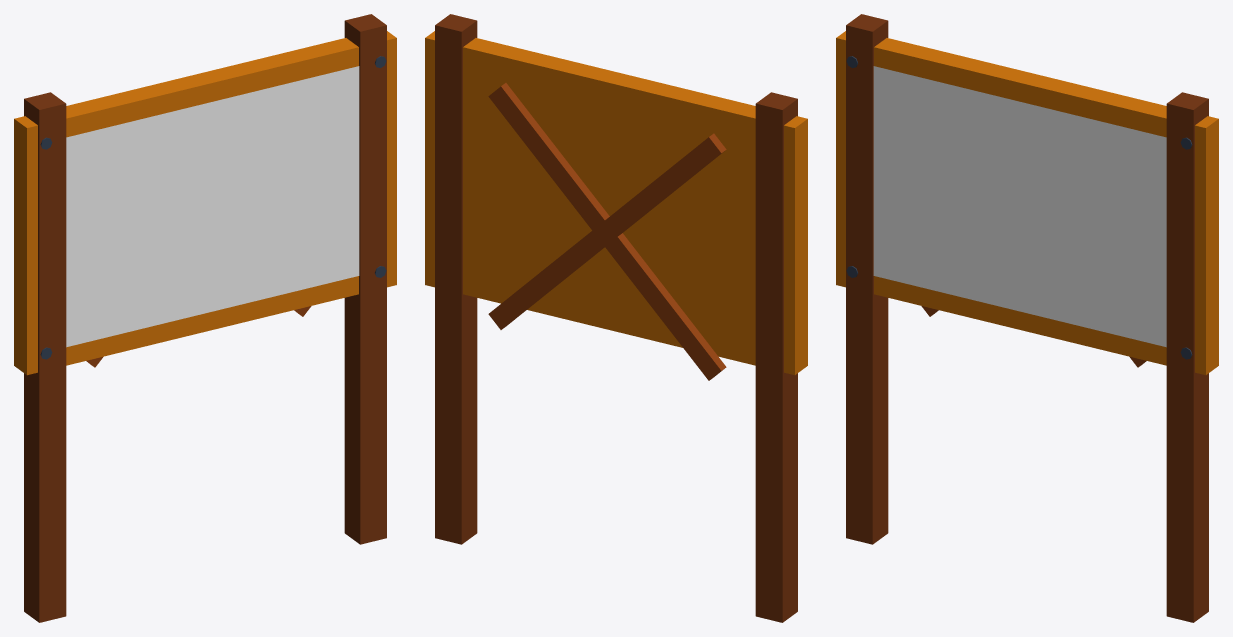
The model's file is branch_sign.glb.
3 views of the same model, side by side, from view 1: azimuth 30°, elevation 25°; view 2: azimuth 150°, elevation 25°; view 3: azimuth 330°, elevation 25° (orthographic).
Parts seen in each view (by area): view 1: sign_display, branch_sign; view 2: branch_sign; view 3: sign_display, branch_sign.
Boxes of the visible parts, bbox=[...] form: sign_display: bbox=[66, 66, 359, 347]; branch_sign: bbox=[14, 14, 396, 622]; branch_sign: bbox=[425, 14, 807, 622]; sign_display: bbox=[873, 66, 1166, 347]; branch_sign: bbox=[836, 14, 1218, 622].
Bounding box in the file's own units: 1.66 × 2.2 × 0.155.
